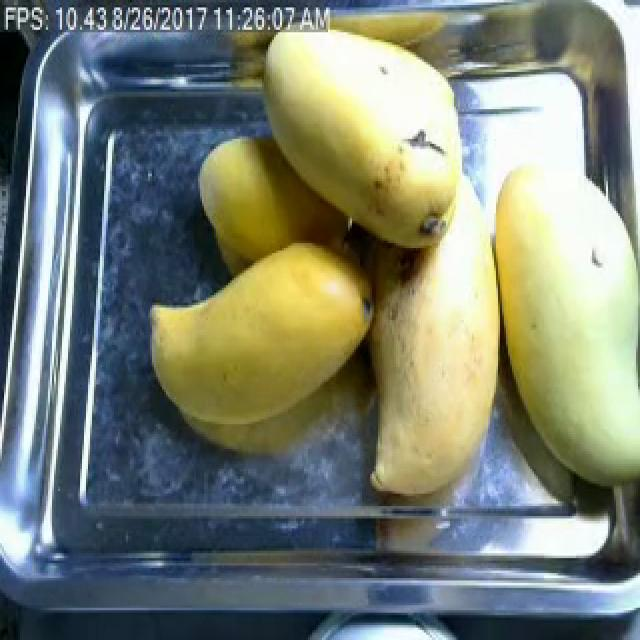fruit: (468, 149, 640, 506), (244, 30, 484, 268), (136, 223, 380, 444), (350, 206, 508, 511)
